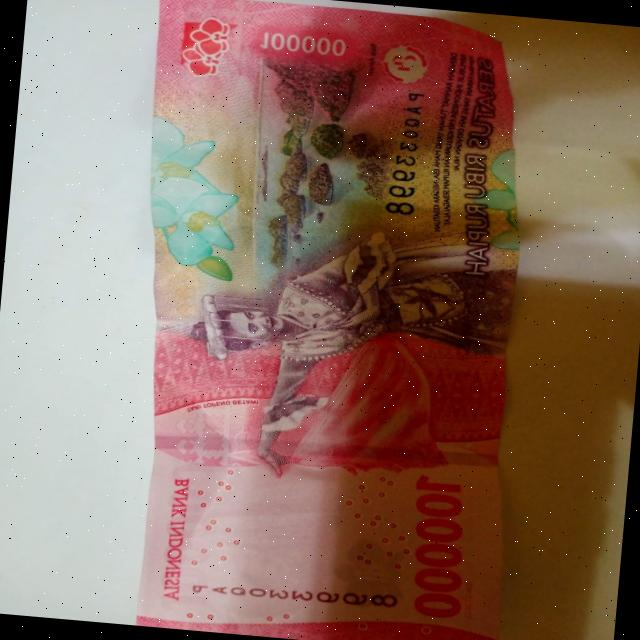100K: (77, 0, 565, 640)
